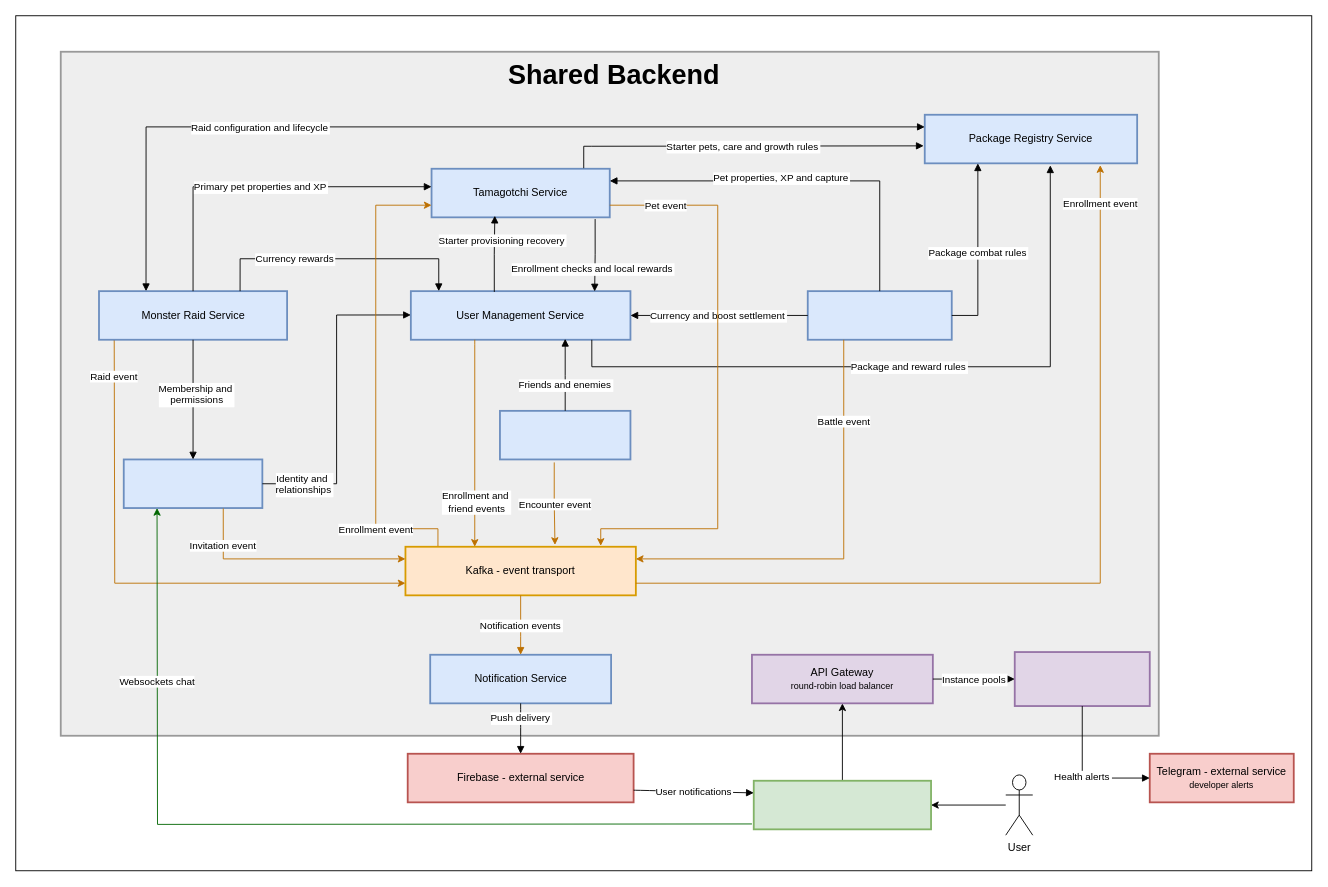
The diagram is 1328 pixels wide and 887 high, and some of its shapes have lost their labels. Here are the shapes that lost their labels. From the top down, the centre of each, then its label:
At point (879, 315): "Battle Service".
At point (565, 435): "Map Service".
At point (192, 483): "Guild Service".
At point (1081, 678): "Service Discovery instance registry and health checks".
At point (842, 804): "Players' client apps".
